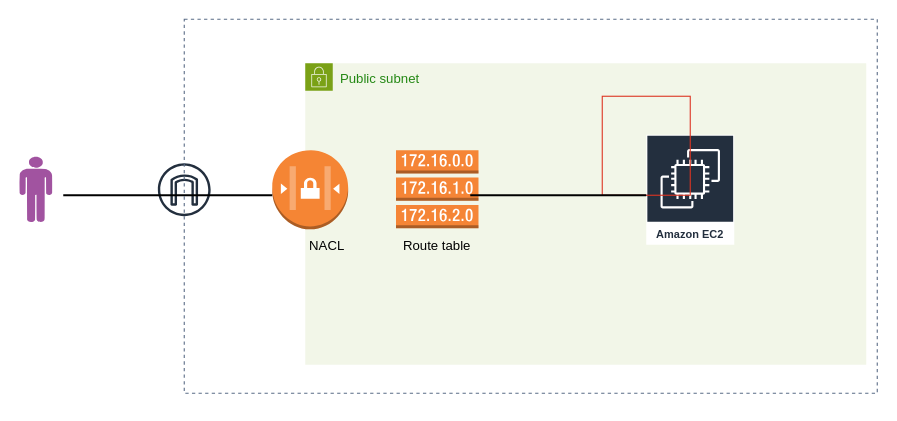
The diagram is 897 pixels wide and 421 high, and some of its shapes have lost their labels. The shapes that lost their labels are listed below. From the top down, each one's box as (x1, y1, x2, y2) in pixels, then its label:
(601, 95, 690, 195): Security group
(150, 156, 217, 223): Internet gateway
